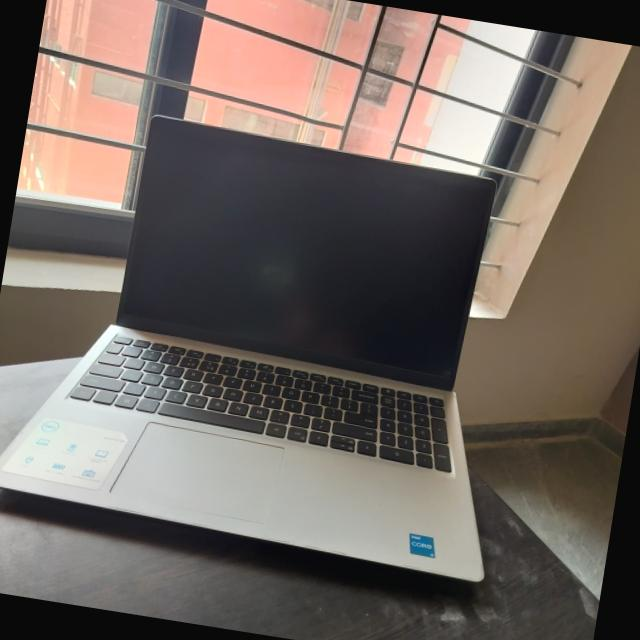laptop: (0, 67, 587, 616)
